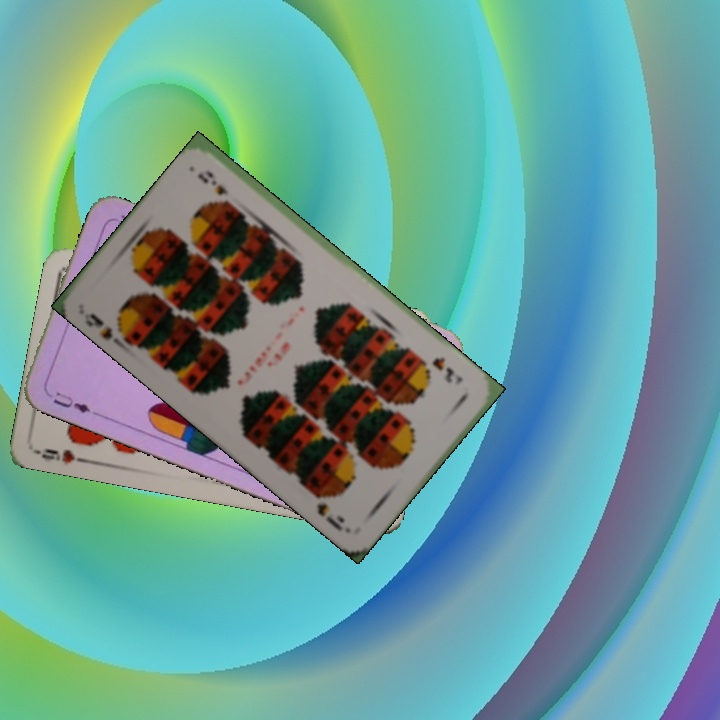EU: (48, 388, 99, 418)
H9: (33, 444, 92, 467)
S9: (80, 309, 130, 351), (428, 353, 466, 387)
